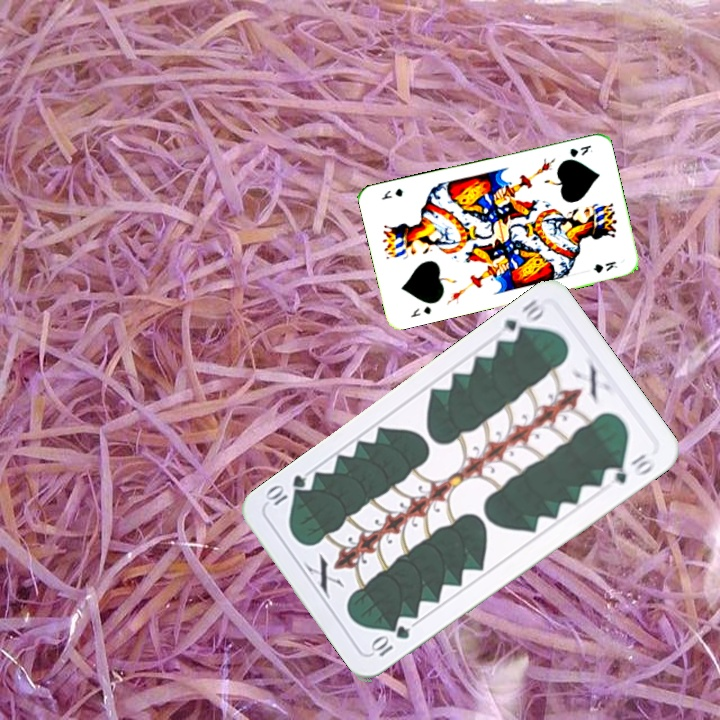G10: (494, 295, 549, 345), (367, 621, 413, 660)
GK: (566, 141, 595, 160), (406, 302, 433, 320)
